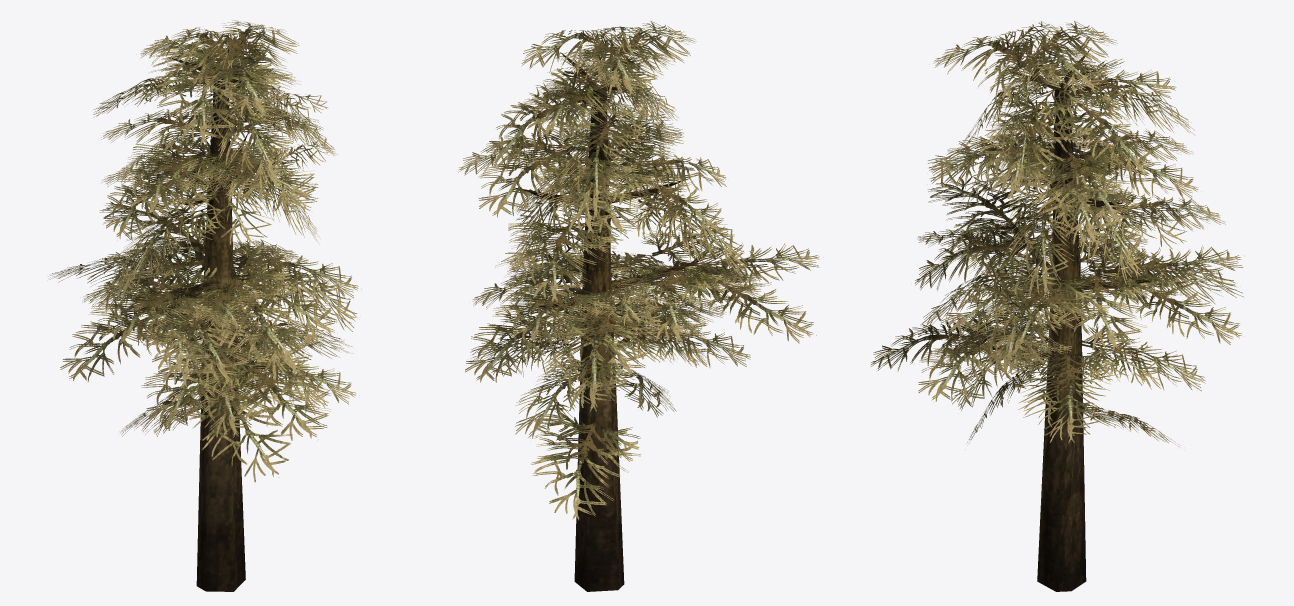
File: flora_tree_cedar_atlas_4_dead.glb
3 views of the same model, side by side, from view 1: azimuth 30°, elevation 25°; view 2: azimuth 150°, elevation 25°; view 3: azimuth 270°, elevation 25° (orthographic). The views are drawn at different scales.
Visible parts, largest first — view 1: flora_tree_cedar_atlas_4_dead_part0, flora_tree_cedar_atlas_4_dead_part1; view 2: flora_tree_cedar_atlas_4_dead_part0, flora_tree_cedar_atlas_4_dead_part1; view 3: flora_tree_cedar_atlas_4_dead_part0, flora_tree_cedar_atlas_4_dead_part1.
Part boxes in pixels (x1,y1,x2,y2): flora_tree_cedar_atlas_4_dead_part0: (49,20,358,591); flora_tree_cedar_atlas_4_dead_part1: (101,74,355,482); flora_tree_cedar_atlas_4_dead_part0: (465,21,819,591); flora_tree_cedar_atlas_4_dead_part1: (458,68,761,520); flora_tree_cedar_atlas_4_dead_part0: (871,21,1243,591); flora_tree_cedar_atlas_4_dead_part1: (918,89,1225,446).
Size of the model in its own units: 22.92 by 34.78 by 23.59.
Materials: 1 (1 with a texture image).
